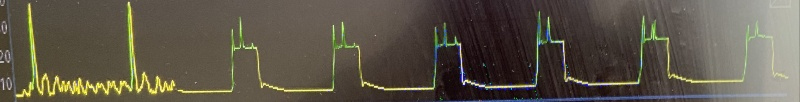hydrop_pressure: (212, 7, 800, 102)
